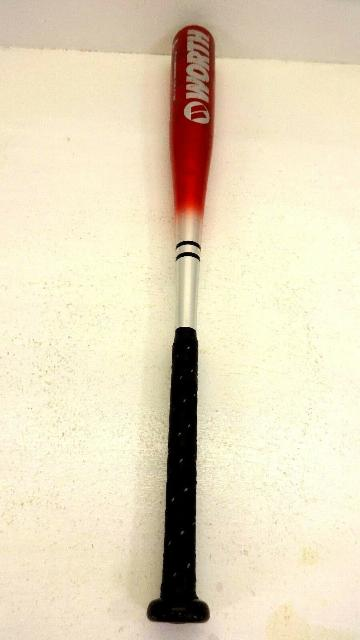baseball bat: (130, 21, 244, 638)
